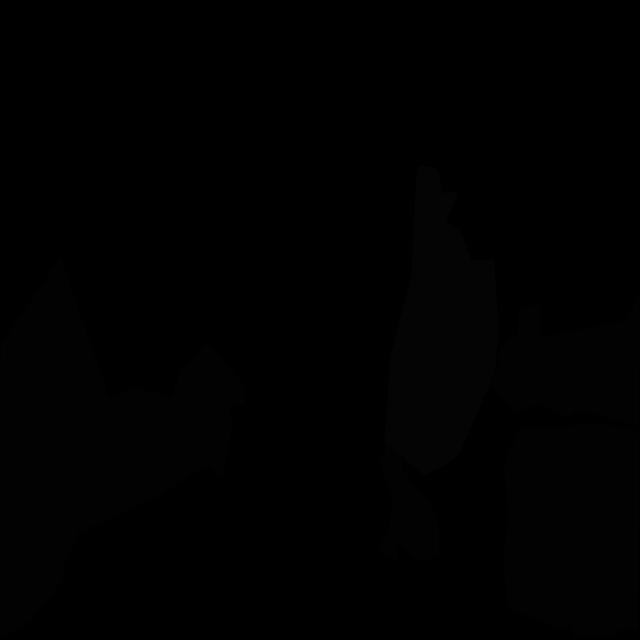cardboard: (0, 257, 245, 638), (503, 424, 640, 637), (490, 295, 640, 427), (376, 442, 440, 561)
soft_plastic: (384, 166, 499, 475)
